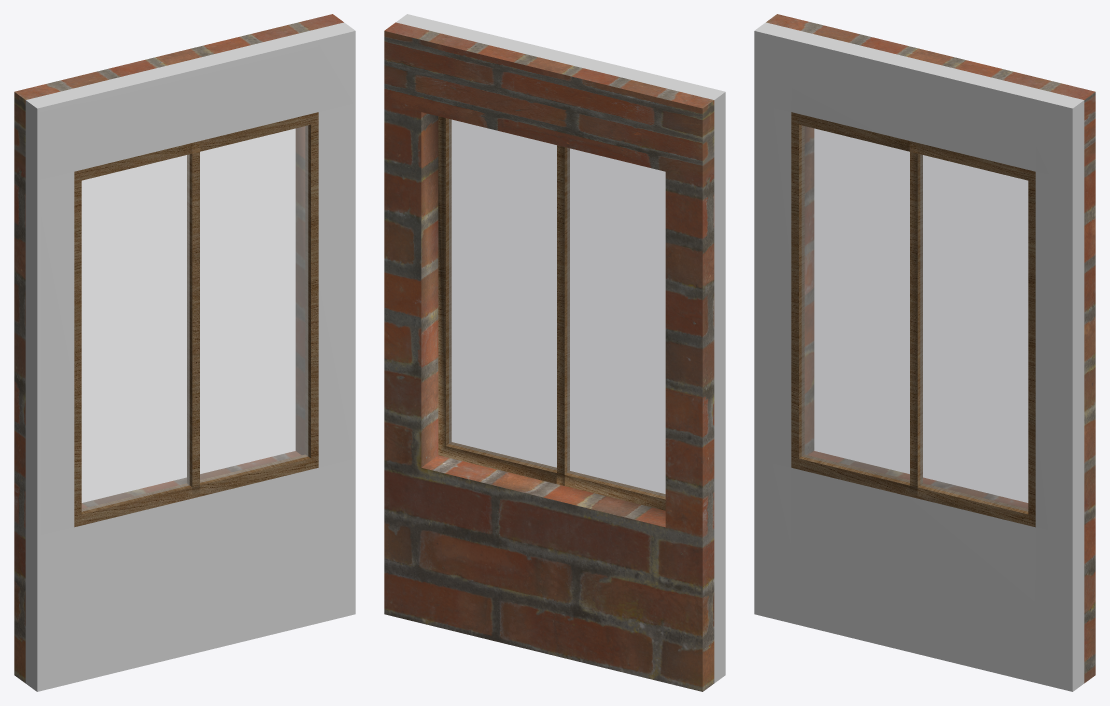
File: Window_wall_complete.fbx
3 views of the same model, side by side, from view 1: azimuth 30°, elevation 25°; view 2: azimuth 150°, elevation 25°; view 3: azimuth 330°, elevation 25° (orthographic).
Visible parts, largest first — view 1: Window wall, Window; view 2: Window wall, Window; view 3: Window wall, Window.
Boxes of the visible parts, x1,y1,x2,y2 form: Window wall: (14,14,355,691); Window: (74,112,318,527); Window wall: (384,14,725,691); Window: (438,116,665,510); Window wall: (754,14,1095,691); Window: (791,112,1035,527).
Size of the model in its own units: 400 by 700 by 50.
